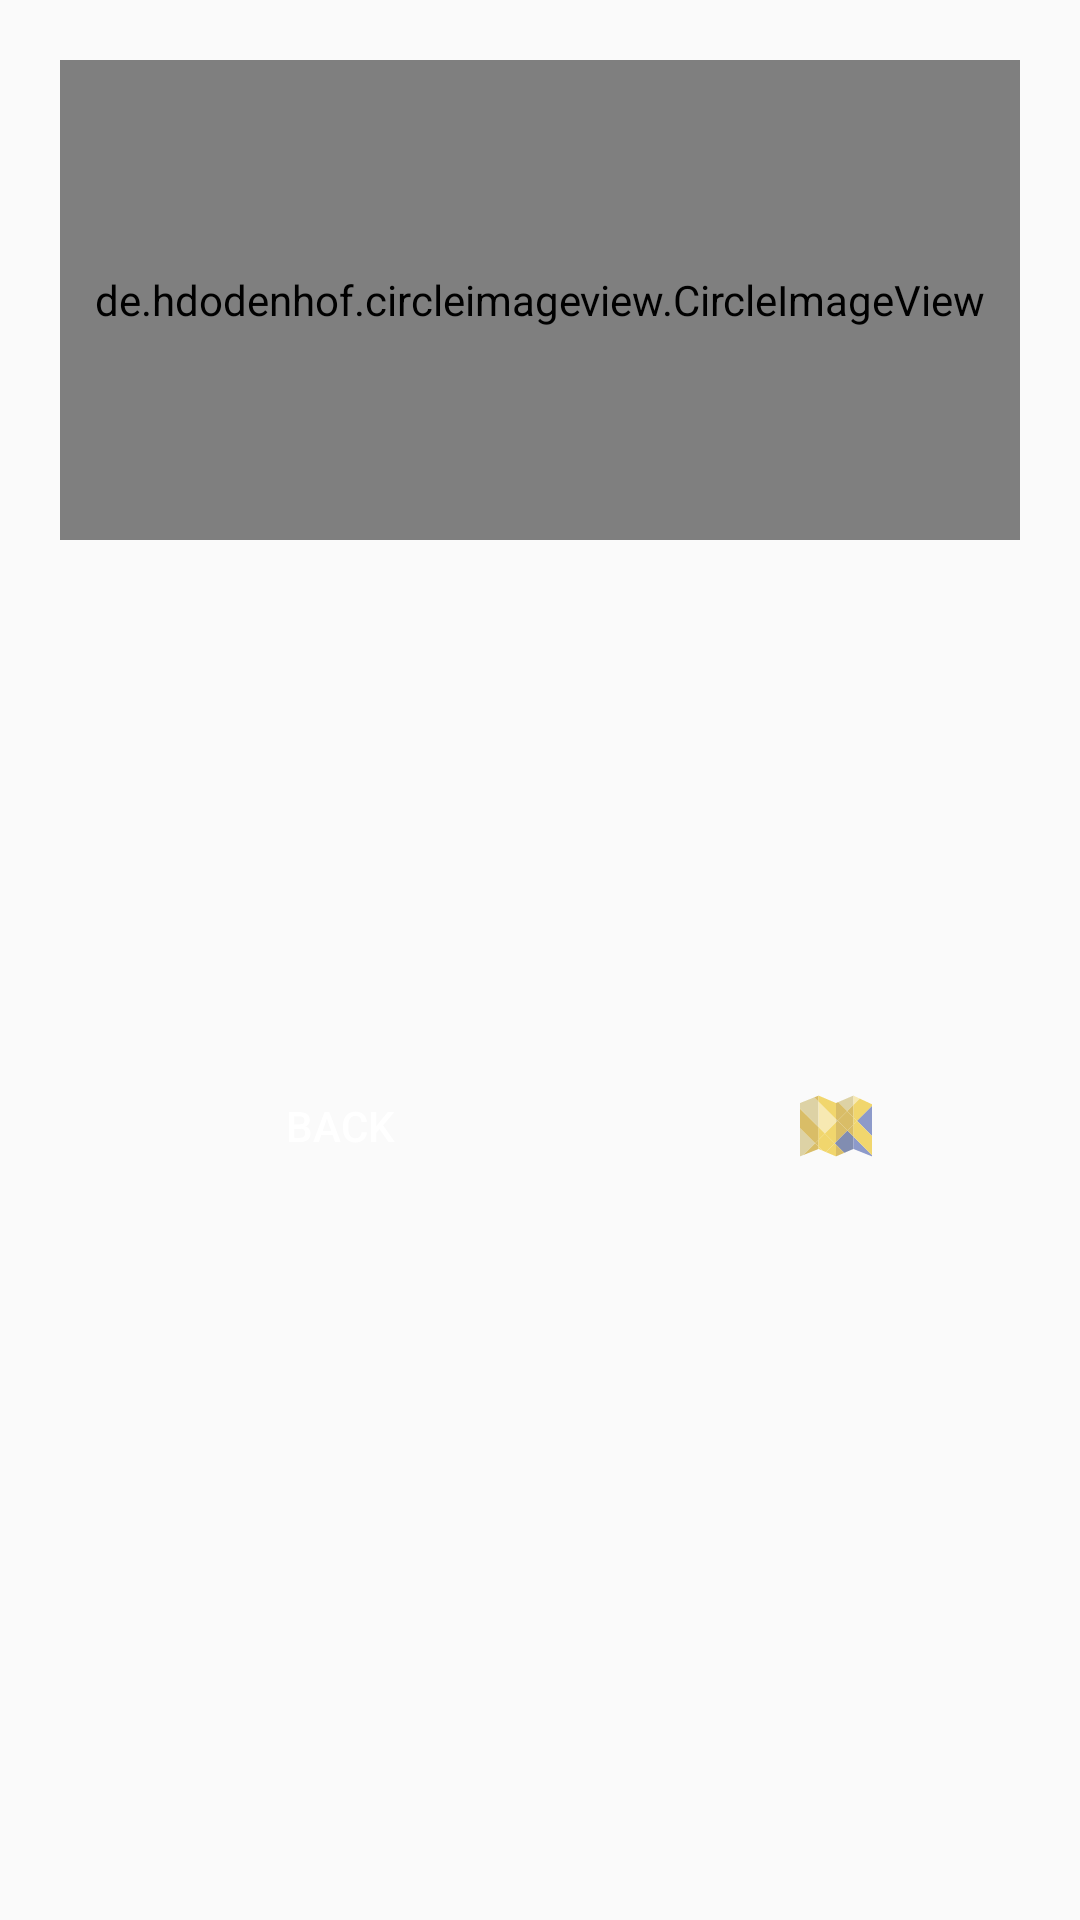

Screen size 1080px×1920px. Icon name, then its center in pixels as (x,y):
map: (836,1126)
